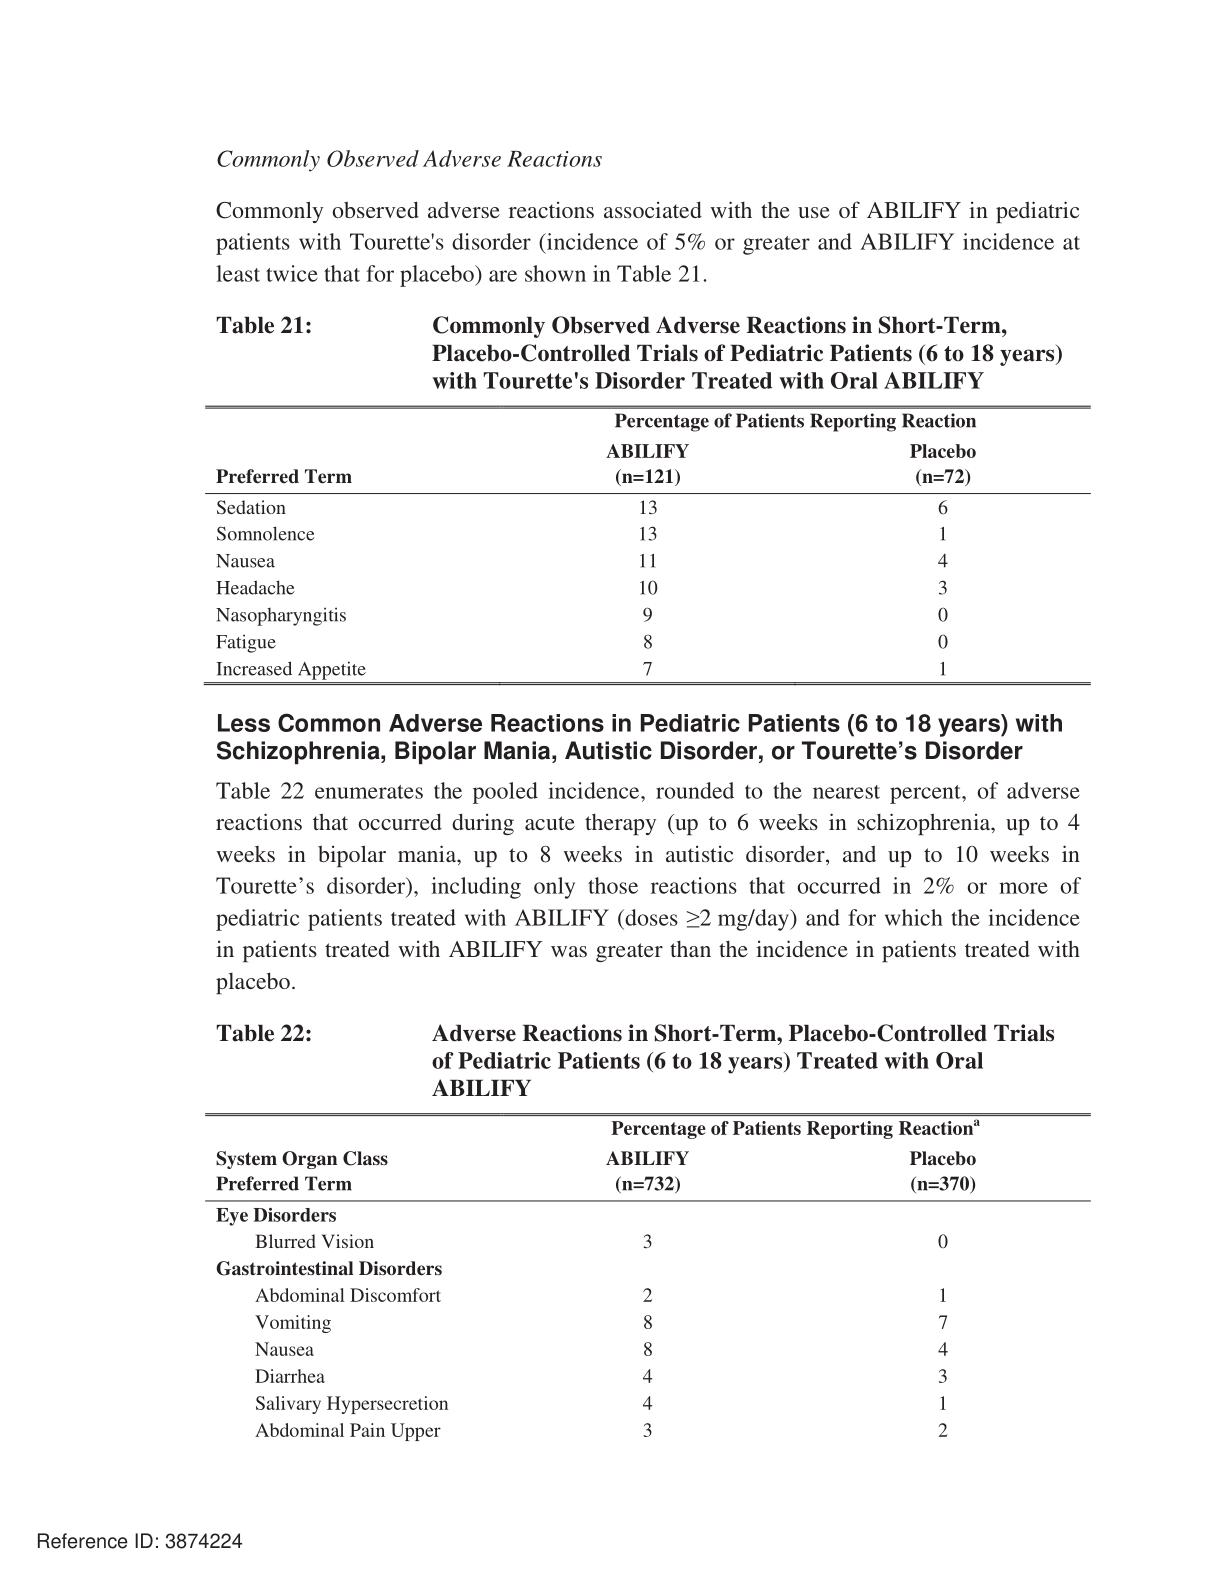partial_lined_merged_cells: (204, 1112, 1092, 1446), (204, 405, 1092, 685)
